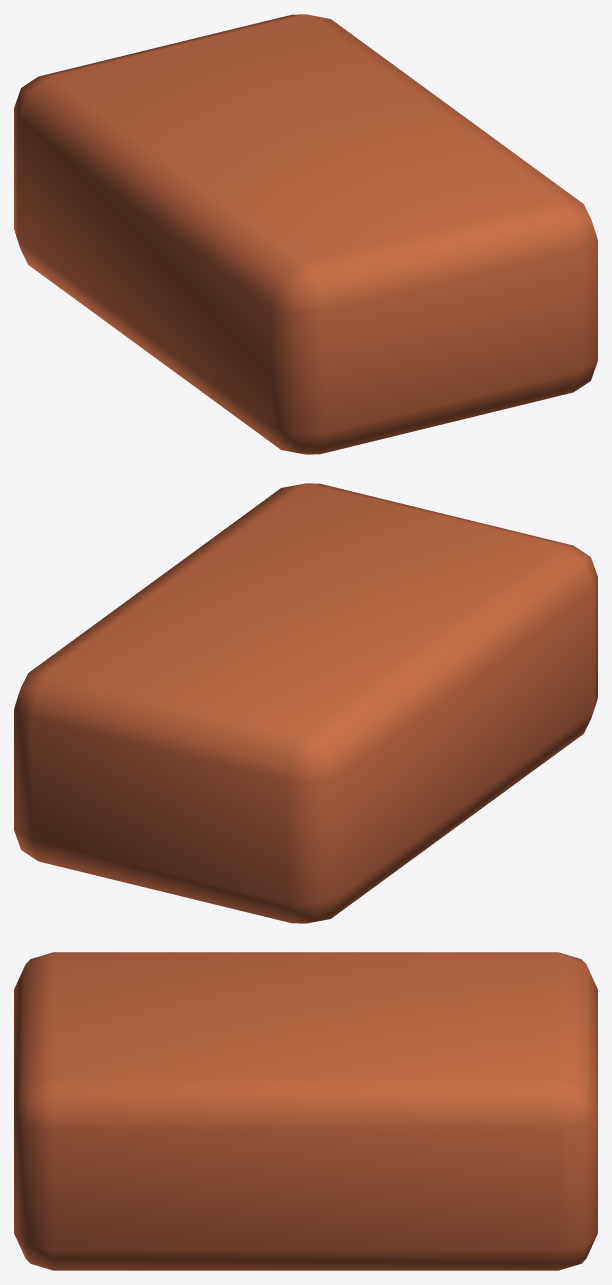
Rendered from soldering_station_power_switch.glb.
3 renders of one model, top to bottom at view 1: azimuth 30°, elevation 25°; view 2: azimuth 150°, elevation 25°; view 3: azimuth 270°, elevation 25°, orthographic.
Parts seen in each view (by area): view 1: soldering_station_power_switch; view 2: soldering_station_power_switch; view 3: soldering_station_power_switch.
Part boxes in pixels (x1=…): soldering_station_power_switch: x1=14, y1=14, x2=597, y2=454; soldering_station_power_switch: x1=14, y1=483, x2=597, y2=923; soldering_station_power_switch: x1=14, y1=952, x2=597, y2=1270.
Size of the model in its own units: 0.014 by 0.008 by 0.022.
